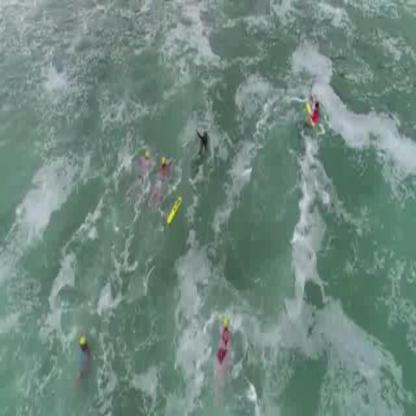Boat: (164, 193, 181, 228)
